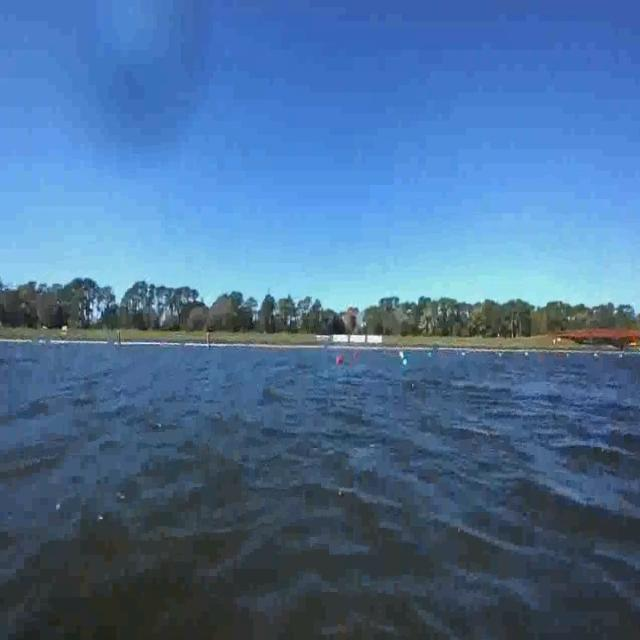red-buoy: (336, 354, 344, 366)
